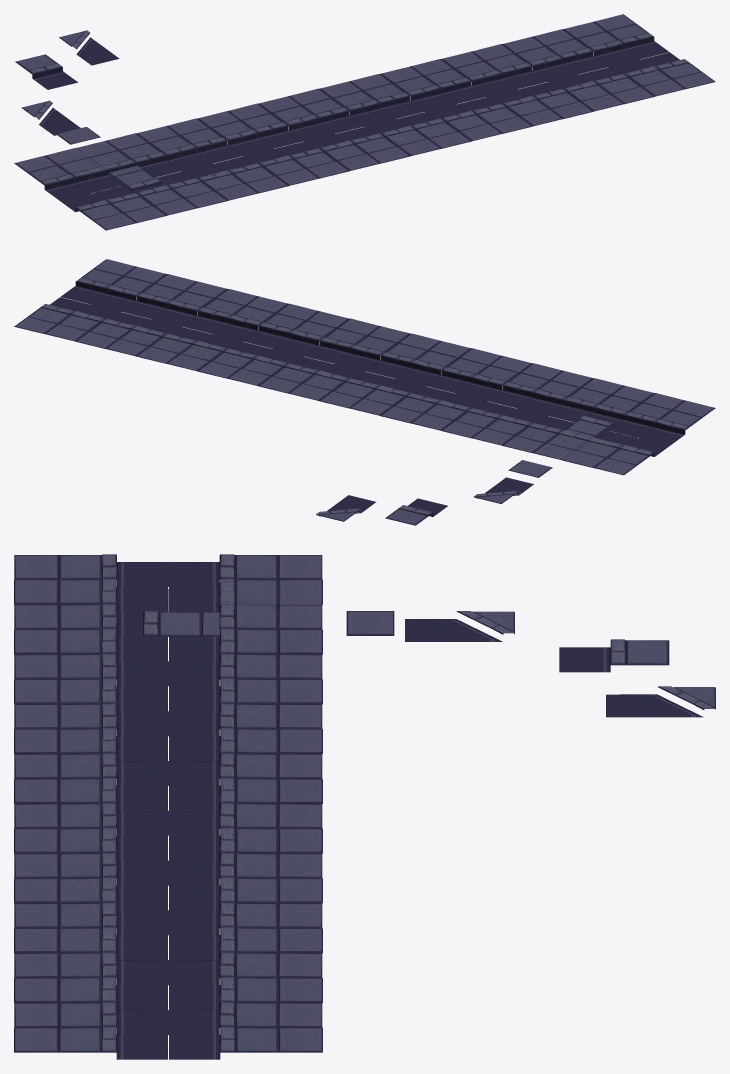
File: Route_passagePieton.fbx
3 views of the same model, one above another, from view 1: azimuth 30°, elevation 25°; view 2: azimuth 150°, elevation 25°; view 3: azimuth 270°, elevation 25° (orthographic). The views are drawn at different scales.
Parts seen in each view (by area): view 1: Plane.001, Plane.006, Plane.008, Plane.007, Plane.002, Plane.003, Plane.005; view 2: Plane.001, Plane.006, Plane.008, Plane.007, Plane.002, Plane.005; view 3: Plane.001, Plane.006, Plane.008, Plane.007, Plane.002, Plane.003, Plane.005.
Boxes of the visible parts, x1,y1,x2,y2 form: Plane.001: (14,14,715,230); Plane.006: (15,54,77,89); Plane.008: (59,30,119,65); Plane.007: (21,100,80,135); Plane.002: (108,165,161,190); Plane.003: (60,147,122,192); Plane.005: (56,127,100,144); Plane.001: (14,259,715,475); Plane.006: (385,498,447,525); Plane.008: (316,495,375,521); Plane.007: (474,477,533,503); Plane.002: (565,415,613,437); Plane.005: (508,460,552,477); Plane.001: (14,554,322,1059); Plane.006: (559,639,669,672); Plane.008: (606,686,715,717); Plane.007: (405,611,514,641); Plane.002: (116,611,220,636); Plane.003: (168,581,322,611); Plane.005: (346,611,394,635).
Size of the model in its own units: 4331 by 57.38 by 2581.
Materials: 9 (9 with a texture image).
